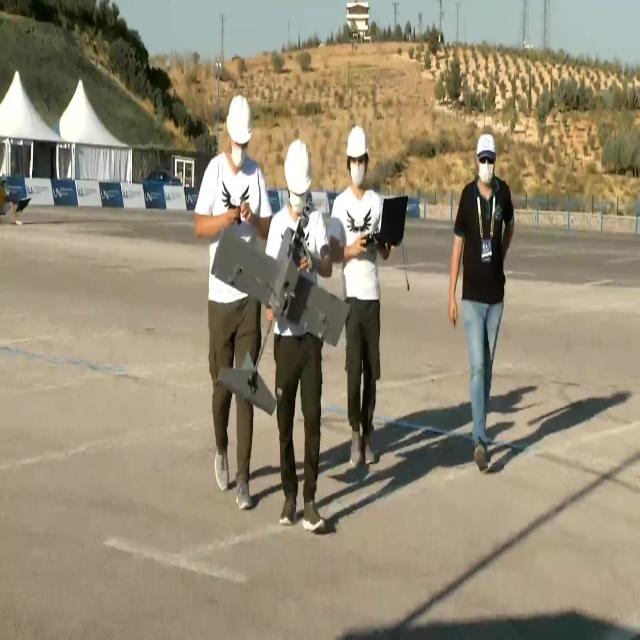iha: (210, 199, 351, 419)
